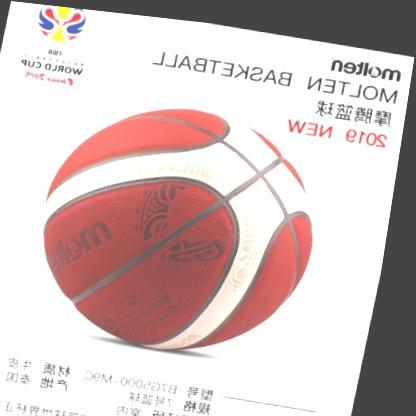basketball: (27, 86, 341, 364)
